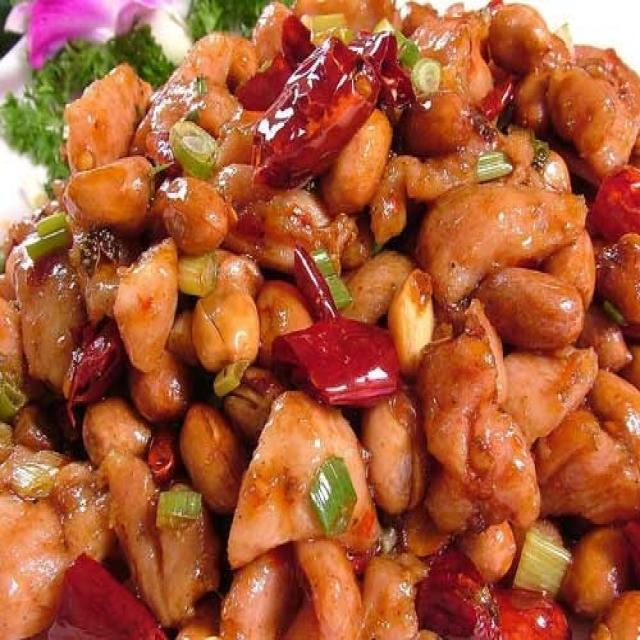鸡肉料理 含炸鸡: (33, 17, 627, 589)
